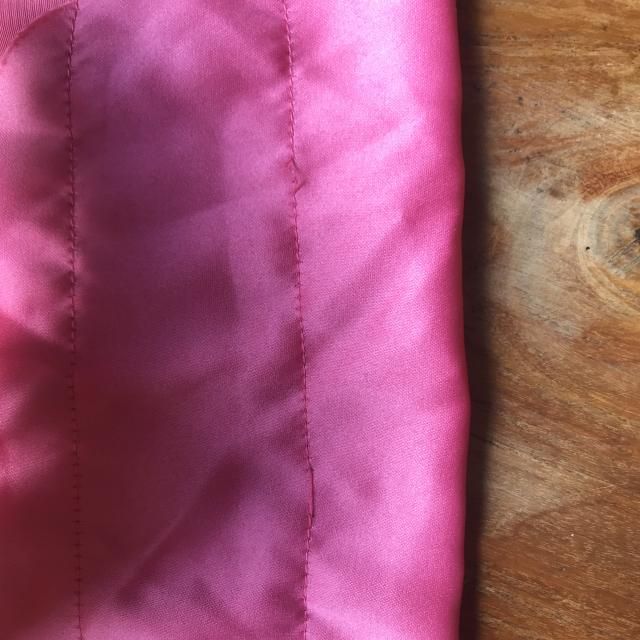broken: (268, 140, 324, 203)
skip: (292, 453, 338, 542)
